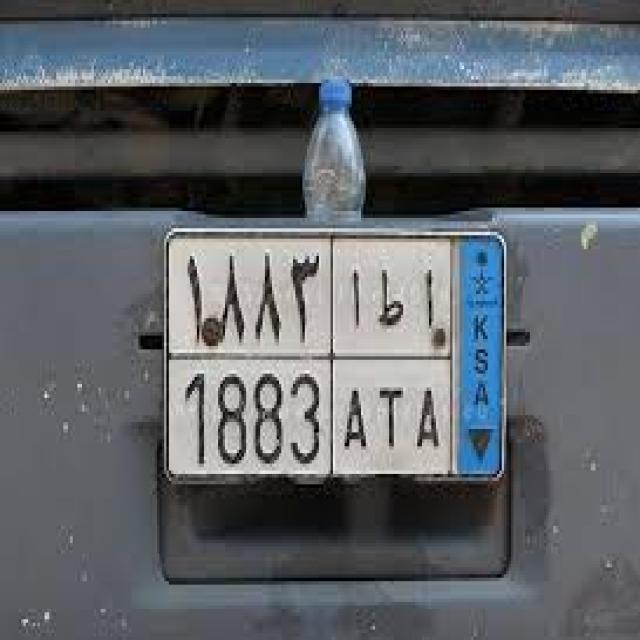license_plate: (160, 225, 514, 488)
